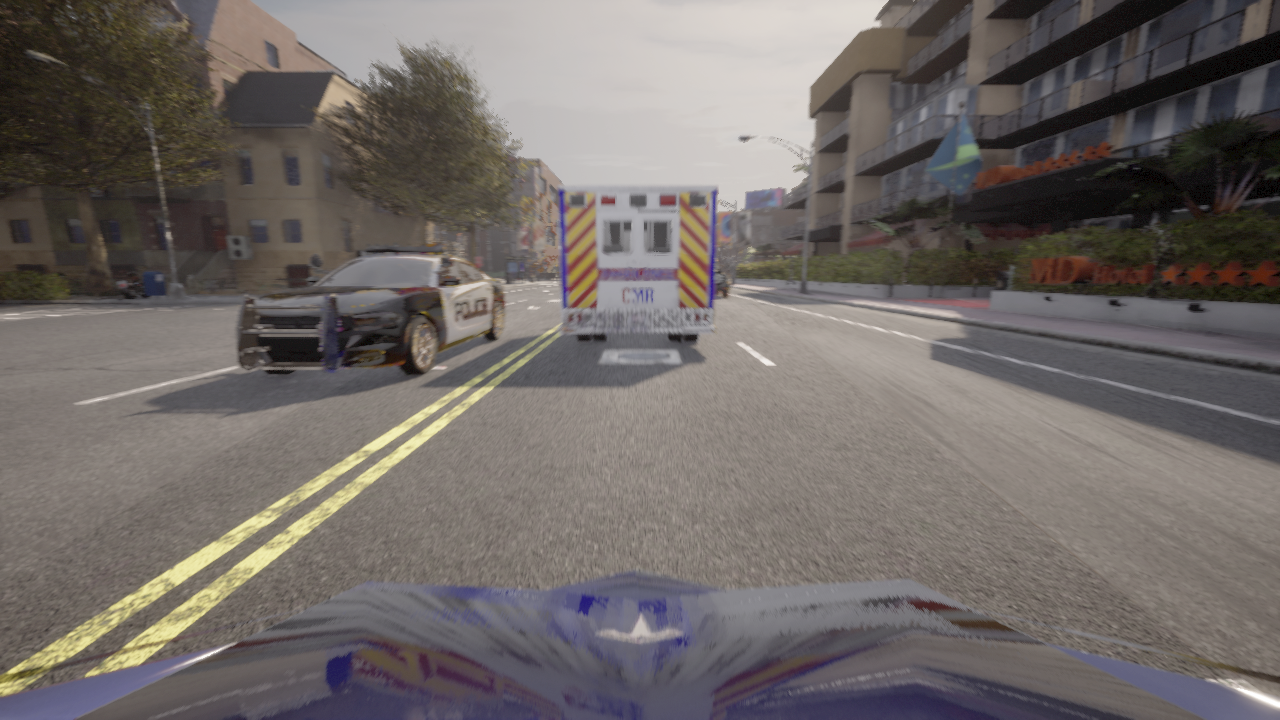cyclist: (0, 569, 1279, 719), (235, 243, 504, 374), (558, 185, 717, 342), (117, 267, 150, 299), (715, 262, 729, 296), (726, 272, 731, 277)
